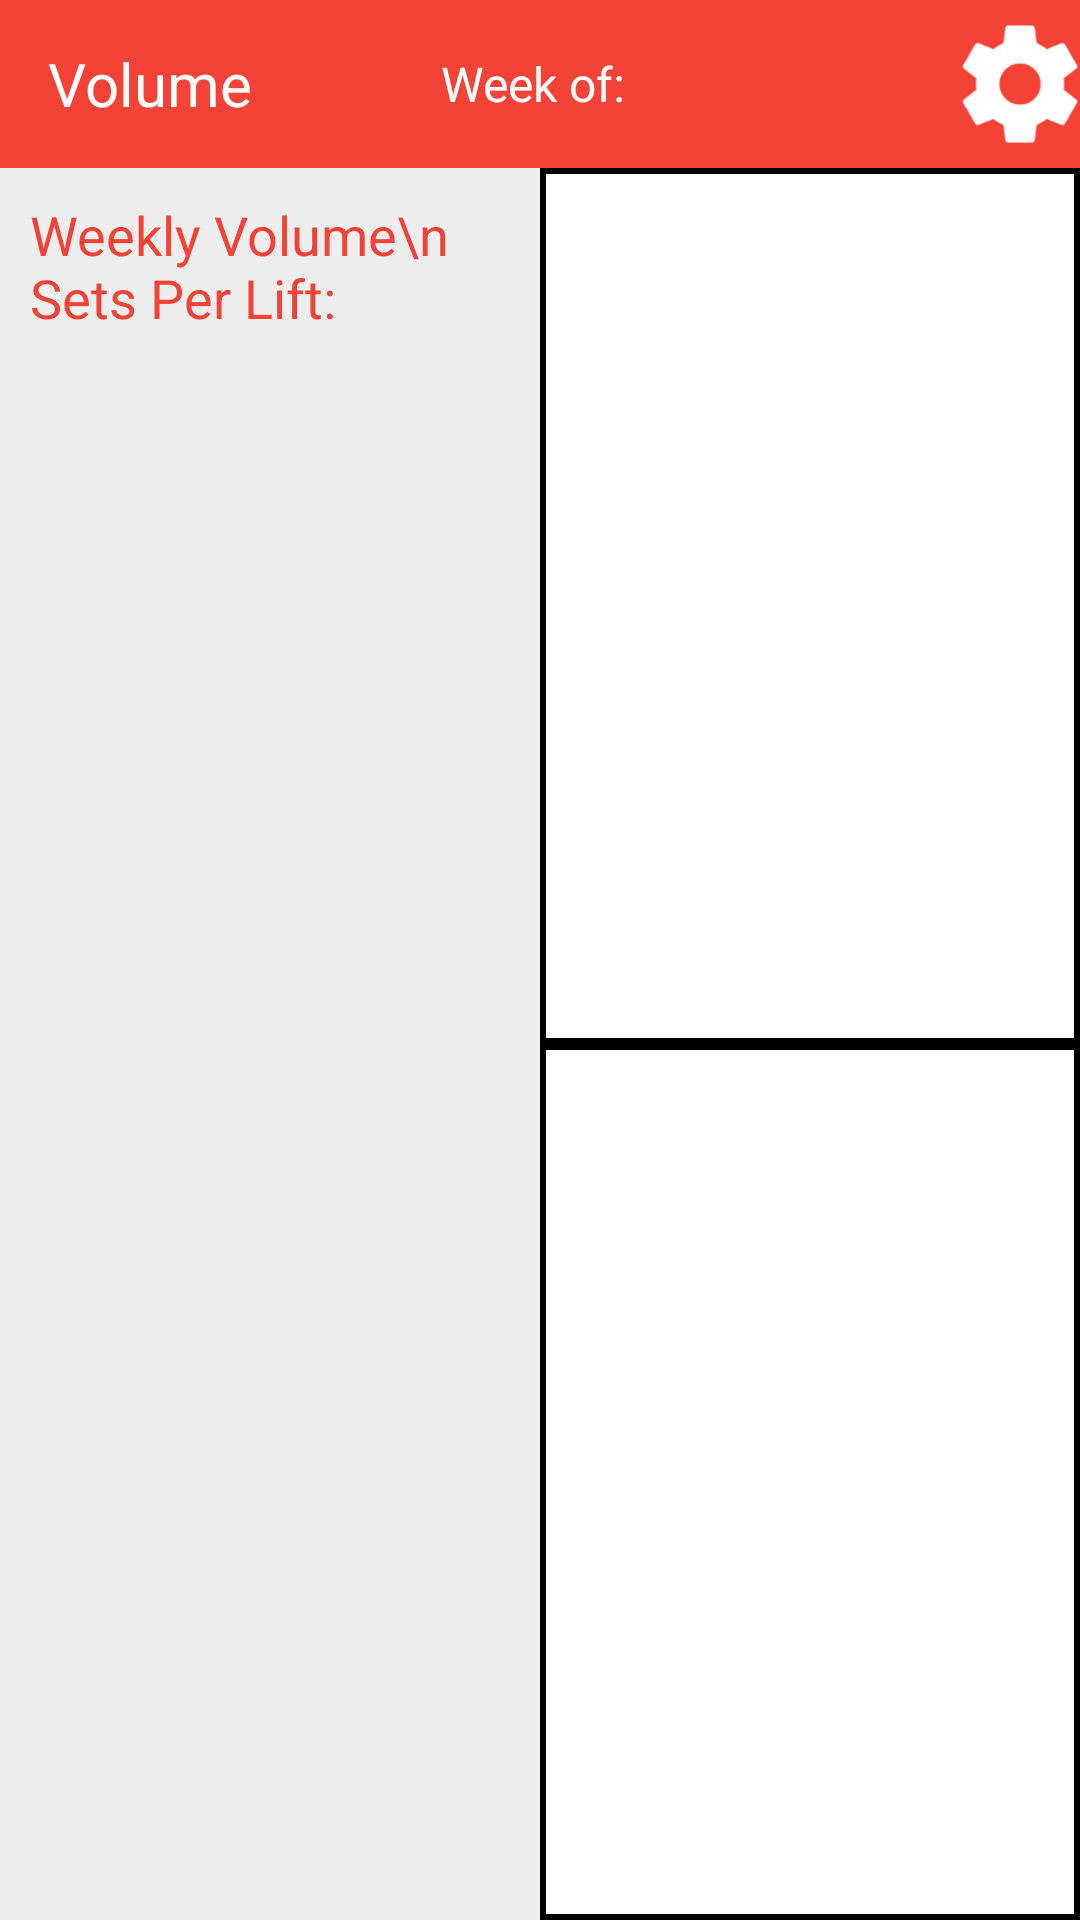

Screen size 1080 x 1920. Icon name, then its box in pixels as (x1, y1, x2, y2):
settings: (962, 25, 1078, 143)
